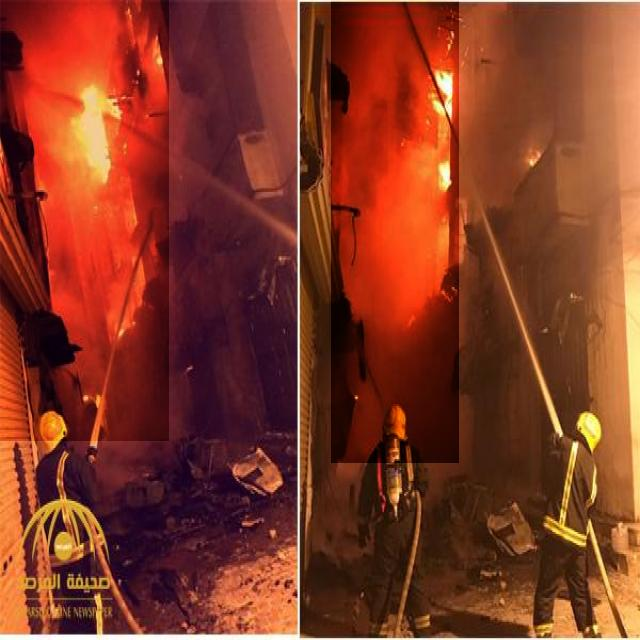Fire: (42, 86, 138, 422), (416, 71, 456, 314)
Smoke: (0, 0, 169, 441), (331, 0, 459, 463)
